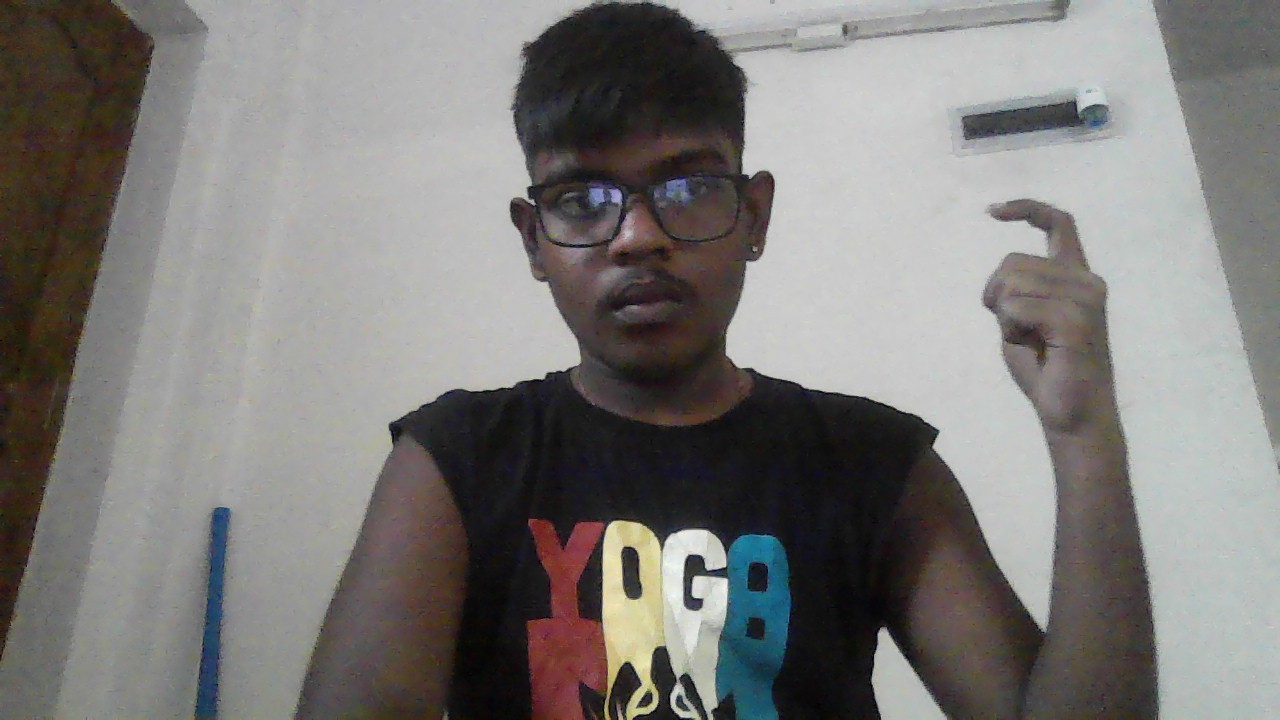X: (982, 198, 1121, 434)
